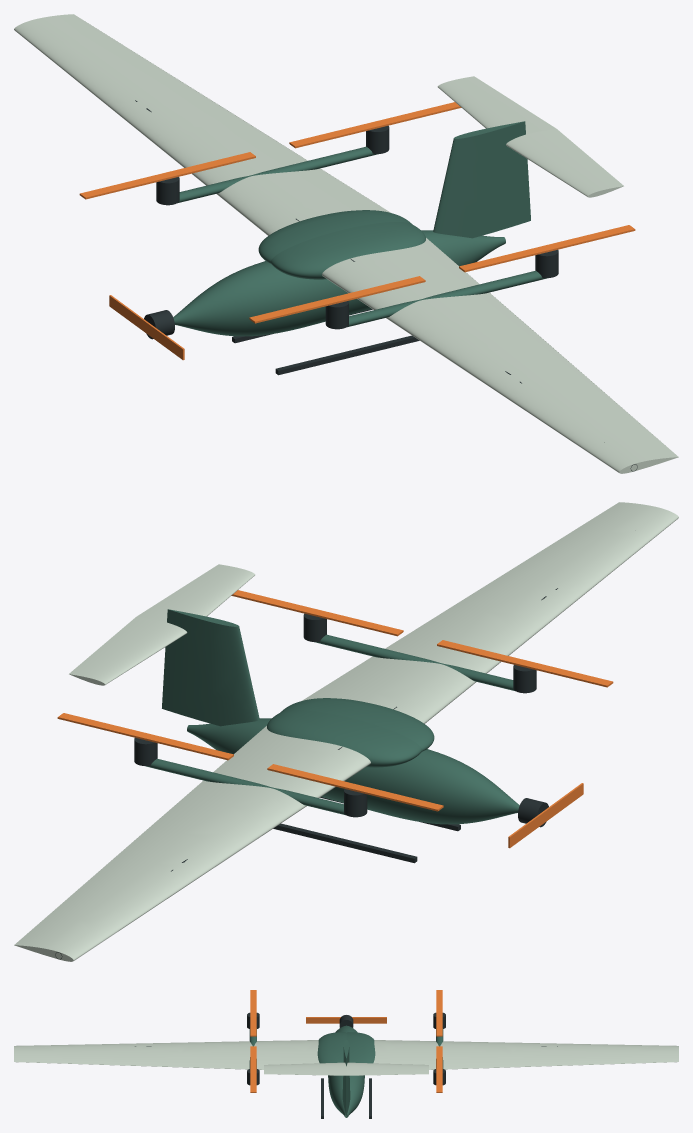
File: control-11-model.glb
The picture shows the model from 3 angles, top to bottom: view 1: azimuth 30°, elevation 25°; view 2: azimuth 150°, elevation 25°; view 3: azimuth 270°, elevation 25°; orthographic projection. The views are drawn at different scales.
Visible parts, largest first — view 1: wing-1, wing1, fuselage, fin, root_fairing-1, tail-1, tail1, root_fairing1, boom_fairing-1, boom_fairing1, prop_-1_200.0, prop_-1_700.0 (+4 smaller); view 2: wing1, wing-1, fuselage, fin, root_fairing1, tail1, tail-1, root_fairing-1, boom_fairing1, boom_fairing-1, prop_1_200.0, prop_1_700.0 (+4 smaller); view 3: wing-1, wing1, fuselage, tail-1, tail1, root_fairing-1, root_fairing1, cruise_prop, fin, prop_-1_200.0, prop_-1_700.0, prop_1_200.0 (+1 smaller).
Part boxes in pixels (<box>): wing-1: <box>322,238,678,473</box>; wing1: <box>14,14,390,235</box>; fuselage: <box>173,230,505,336</box>; fin: <box>433,121,530,238</box>; root_fairing-1: <box>270,222,425,279</box>; tail-1: <box>506,128,623,197</box>; tail1: <box>437,76,555,134</box>; root_fairing1: <box>258,210,412,263</box>; boom_fairing-1: <box>347,270,548,327</box>; boom_fairing1: <box>177,146,378,203</box>; prop_-1_200.0: <box>249,276,425,323</box>; prop_-1_700.0: <box>459,225,635,272</box>; wing1: <box>14,726,370,961</box>; wing-1: <box>302,502,678,723</box>; fuselage: <box>187,718,519,824</box>; fin: <box>162,609,259,726</box>; root_fairing1: <box>267,710,422,767</box>; tail1: <box>69,616,187,685</box>; tail-1: <box>137,564,255,622</box>; root_fairing-1: <box>280,698,434,751</box>; boom_fairing1: <box>145,758,345,815</box>; boom_fairing-1: <box>314,634,515,691</box>; prop_1_200.0: <box>267,764,443,811</box>; prop_1_700.0: <box>57,713,233,760</box>; wing-1: <box>14,1040,319,1069</box>; wing1: <box>373,1040,678,1069</box>; fuselage: <box>328,1025,364,1117</box>; tail-1: <box>264,1062,346,1075</box>; tail1: <box>346,1062,428,1075</box>; root_fairing-1: <box>317,1032,346,1063</box>; root_fairing1: <box>346,1032,375,1063</box>; cruise_prop: <box>306,1017,386,1023</box>; fin: <box>342,1040,350,1115</box>; prop_-1_200.0: <box>250,990,256,1036</box>; prop_-1_700.0: <box>250,1046,256,1092</box>; prop_1_200.0: <box>436,990,442,1036</box>.
Bounding box in the file's own units: 979 × 390 × 2500.
